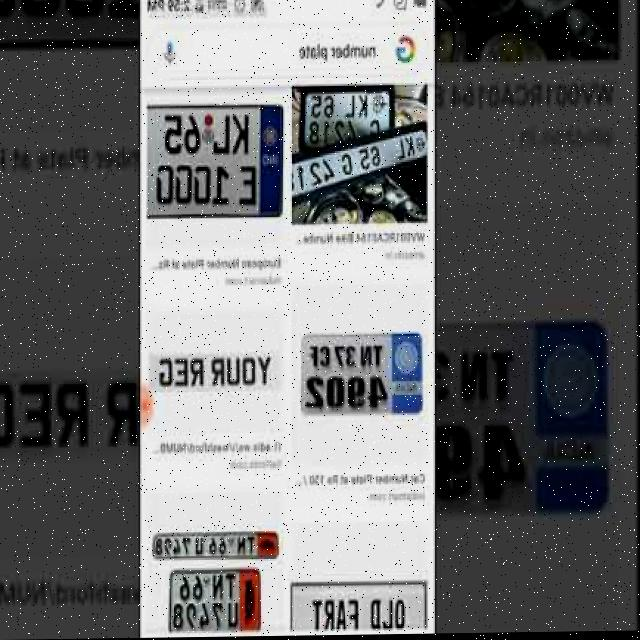plate: (146, 105, 282, 222), (287, 121, 425, 217), (304, 332, 427, 420), (170, 568, 261, 638), (297, 94, 393, 157), (150, 535, 280, 564)
